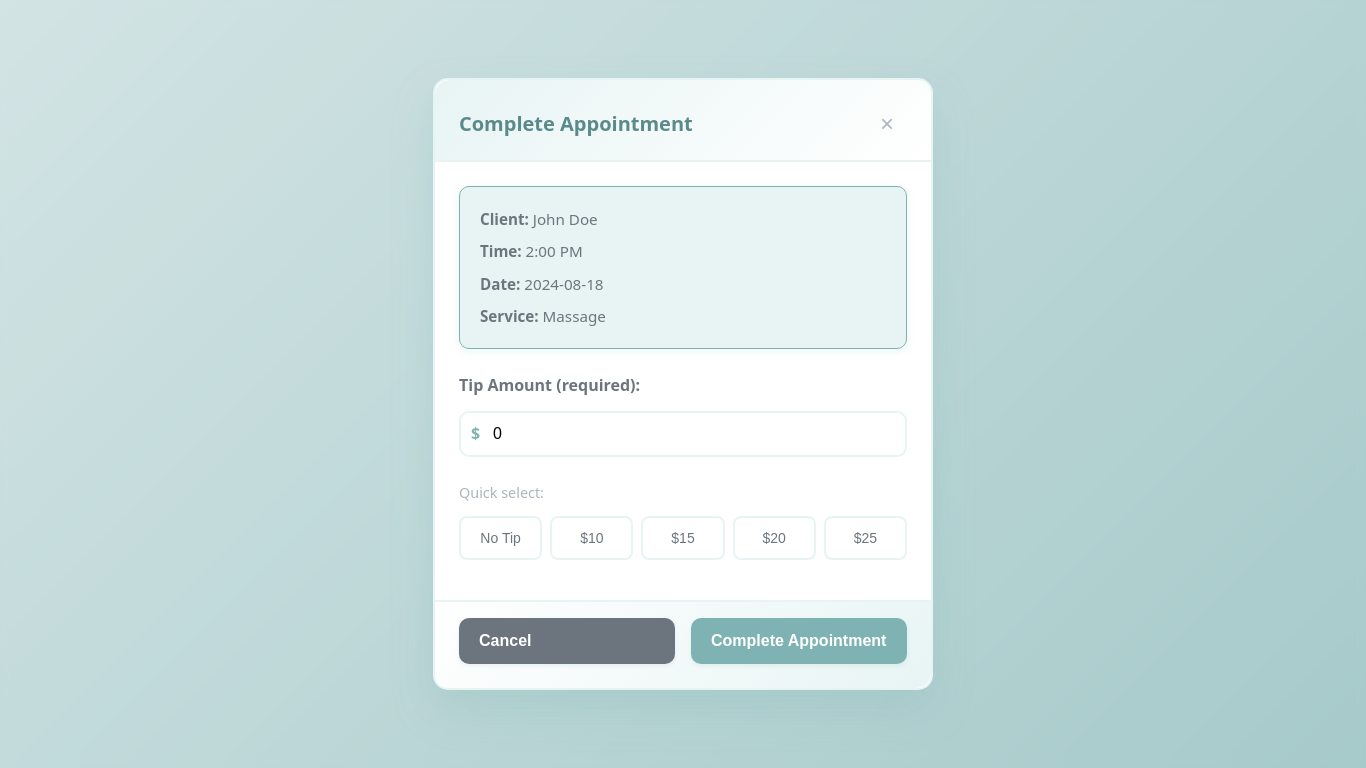
Test: TipModal Component › User Interactions › quick tip buttons set tip amount
This screenshot has width=1366, height=768.
Step 1. Click the button "$10" → (592,538), box x1=550 y1=516 x2=633 y2=560
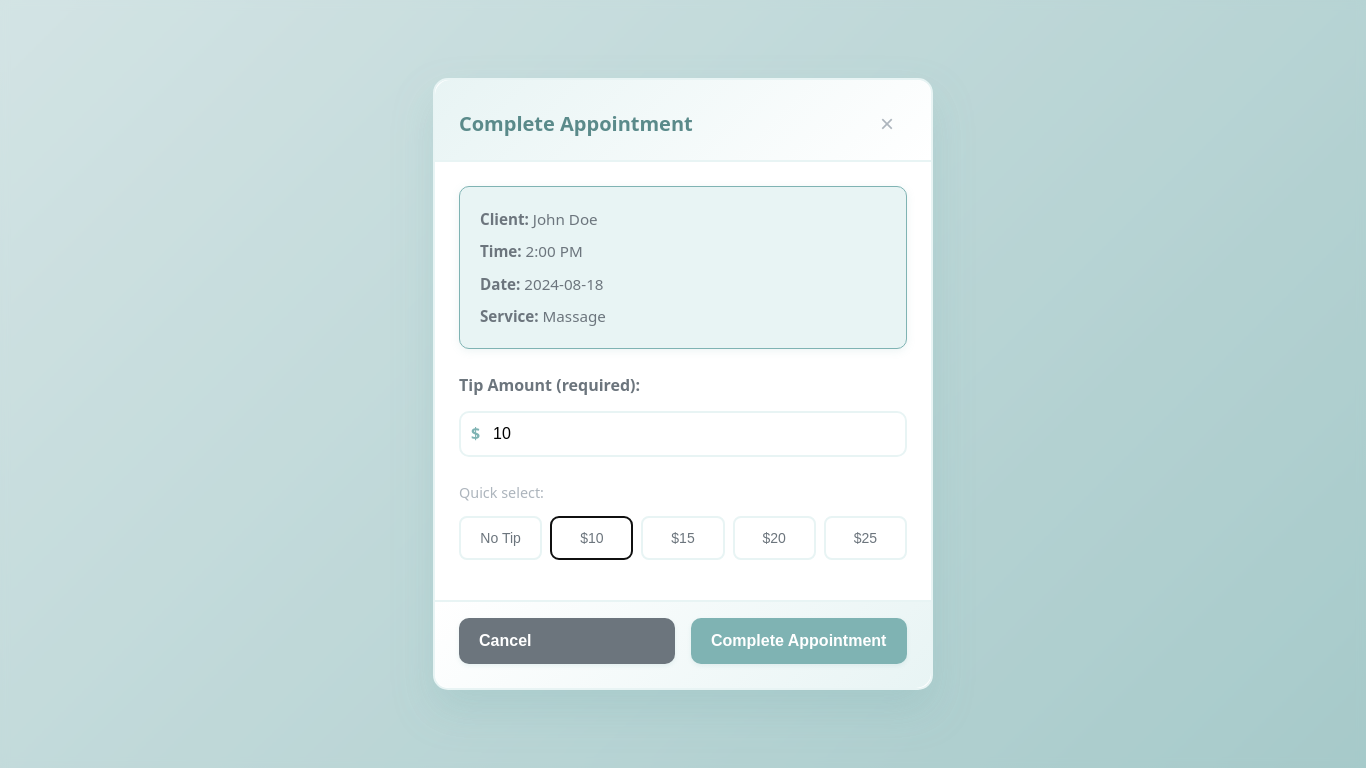
expect the number field with placeholder "0.00" holds "10": met, box x1=459 y1=411 x2=907 y2=457
